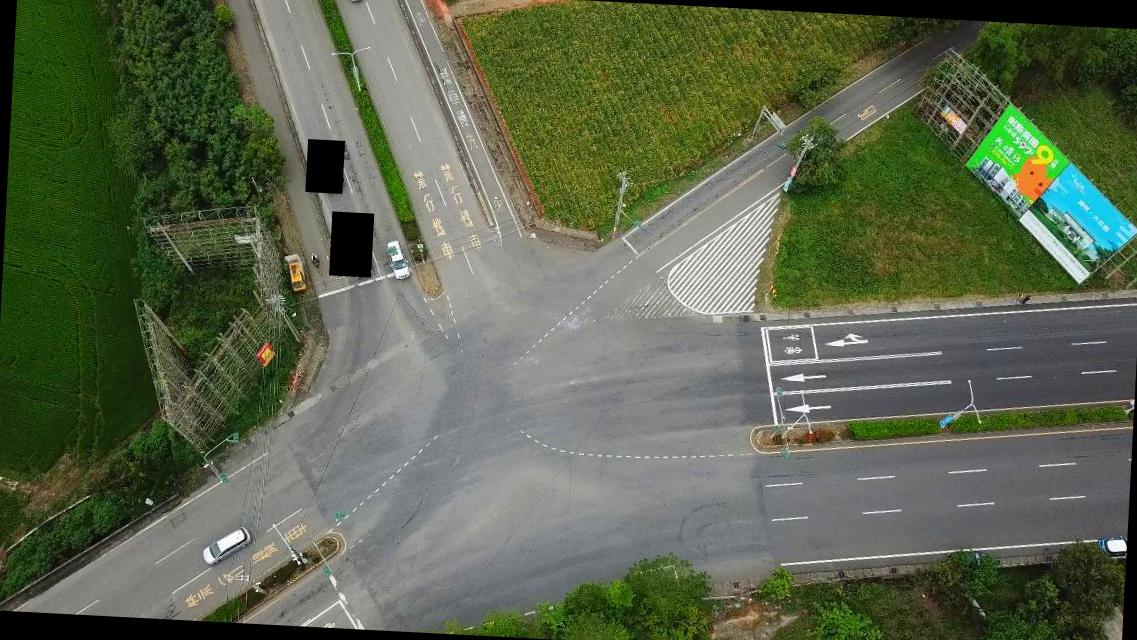vehicle: (203, 524, 250, 566), (385, 240, 409, 280), (286, 257, 308, 294), (1096, 535, 1126, 556), (345, 0, 364, 3)
